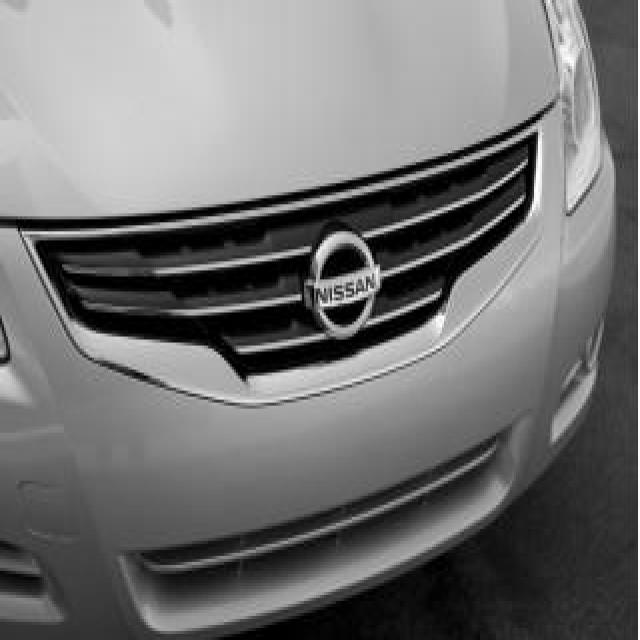Car: (0, 2, 615, 636)
